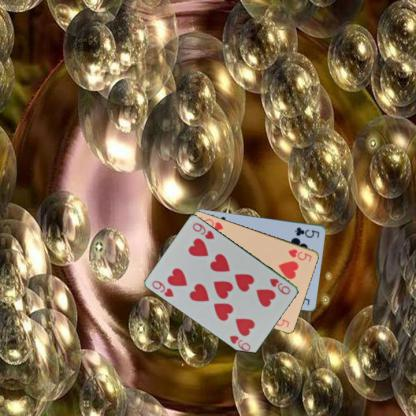5c: (292, 224, 321, 239)
5h: (286, 246, 313, 262)
9h: (267, 275, 292, 296), (150, 278, 175, 298)
